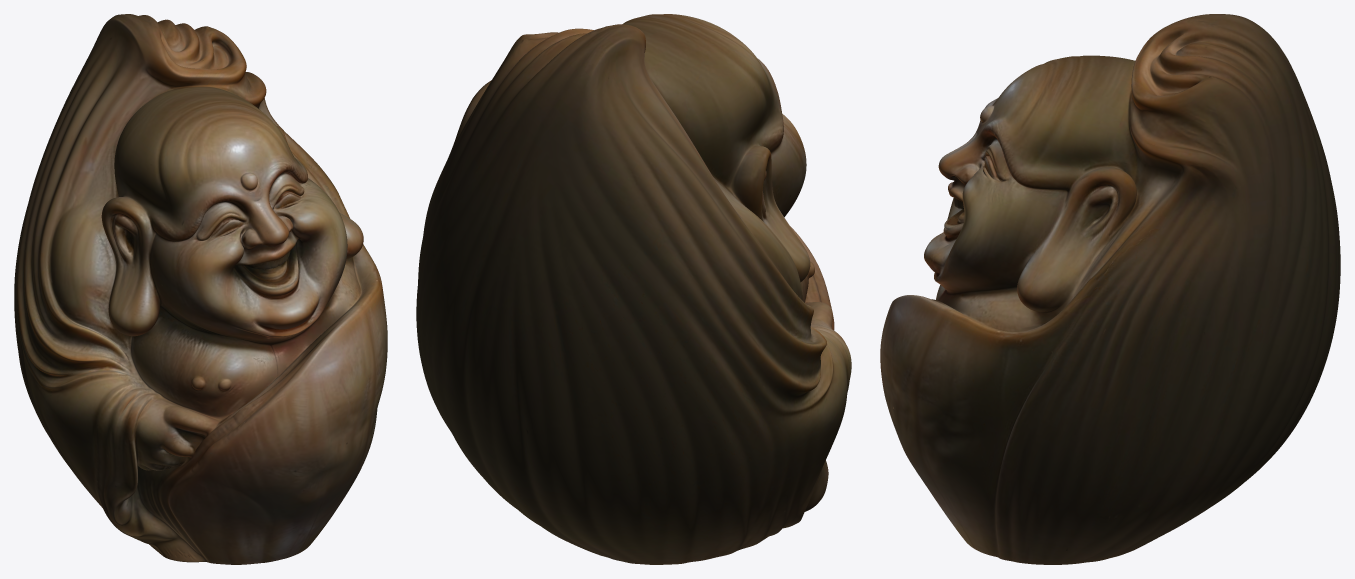
File: _spare_A4_mile.glb
3 views of the same model, side by side, from view 1: azimuth 30°, elevation 25°; view 2: azimuth 150°, elevation 25°; view 3: azimuth 270°, elevation 25° (orthographic). The views are drawn at different scales.
Visible parts, largest first — view 1: node_0; view 2: node_0; view 3: node_0.
Boxes of the visible parts, x1,y1,x2,y2 form: node_0: (14, 14, 387, 564); node_0: (416, 14, 851, 564); node_0: (880, 14, 1340, 564).
Bounding box in the file's own units: 0.7266 × 1.05 × 0.8778.
Materials: 1 (1 with a texture image).
